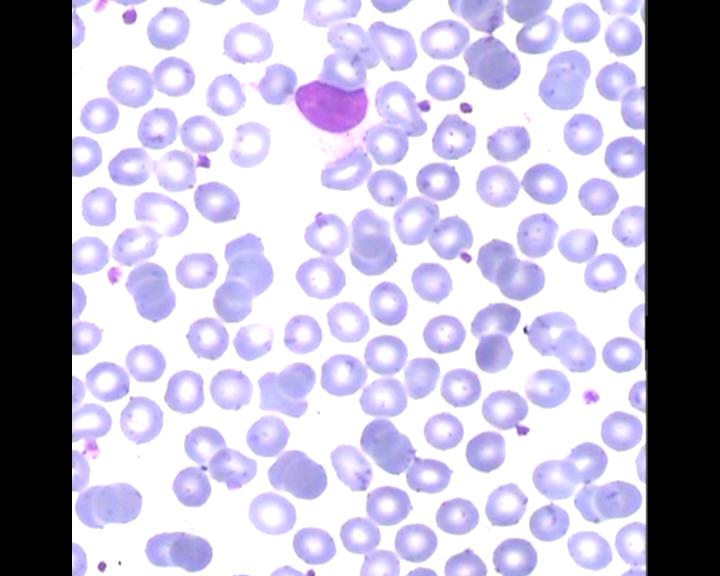mono: (279, 69, 382, 155)
